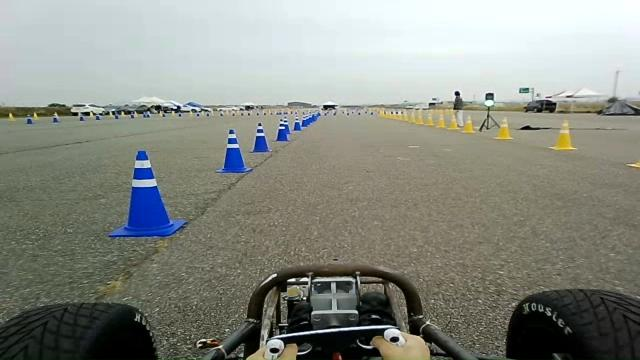blue cone: (108, 149, 187, 238), (215, 128, 253, 173), (249, 121, 272, 152), (274, 122, 290, 141), (278, 118, 292, 134), (292, 116, 302, 131)
yellow cone: (548, 120, 578, 150), (494, 116, 514, 140), (461, 114, 475, 133), (434, 109, 446, 128), (447, 116, 459, 130), (424, 110, 434, 126), (414, 109, 424, 124), (400, 110, 409, 122), (408, 110, 416, 123)
